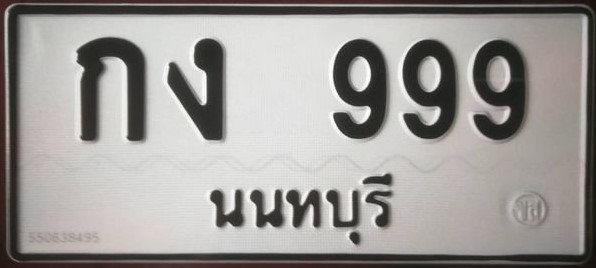txt01: (71, 35, 148, 145)
txt05: (166, 34, 228, 143)
